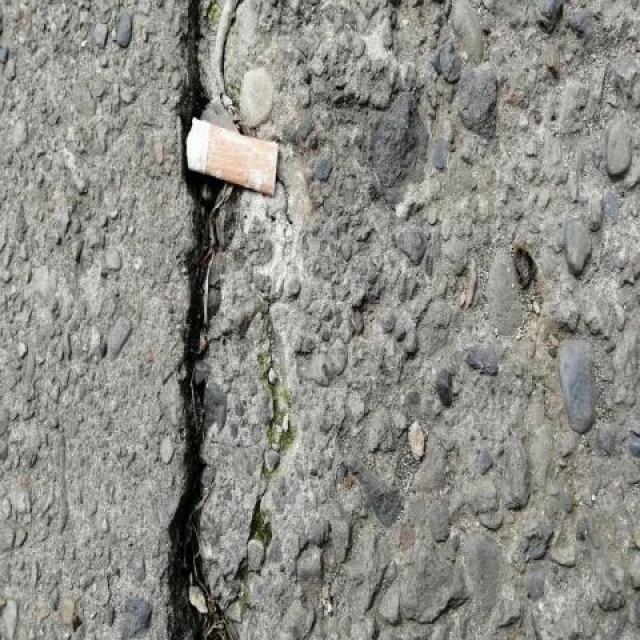non-organic waste: (183, 112, 285, 196)
